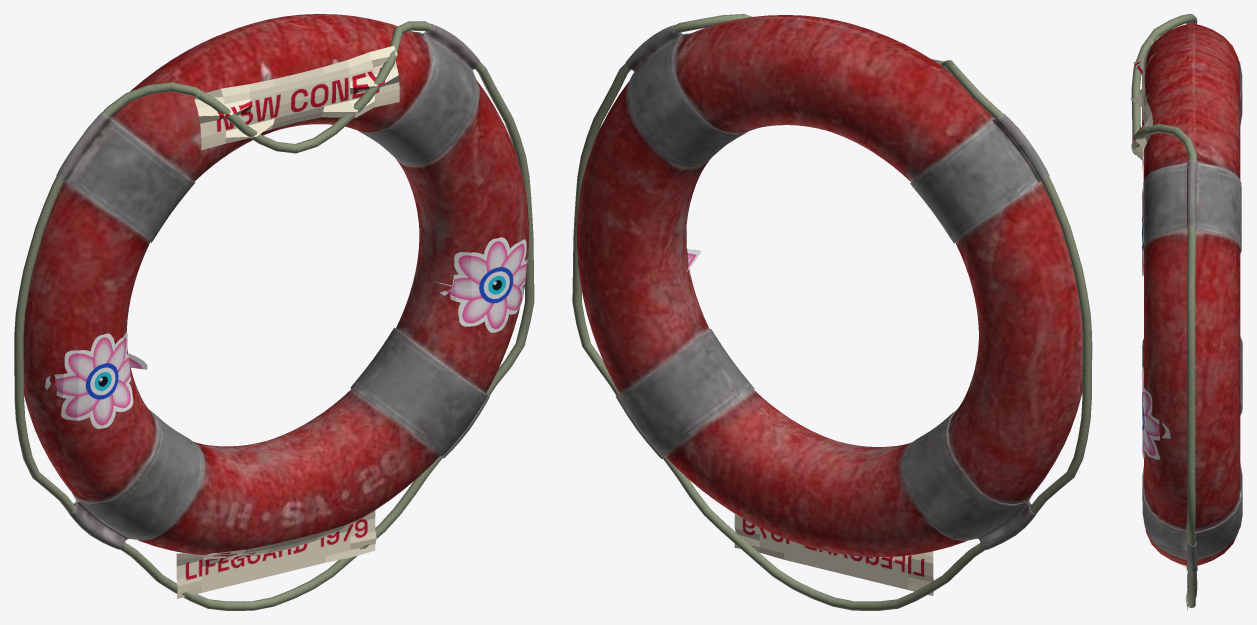
File: nyb_coney_buoy.glb
The picture shows the model from 3 angles, left to right: view 1: azimuth 30°, elevation 25°; view 2: azimuth 150°, elevation 25°; view 3: azimuth 270°, elevation 25°; orthographic projection. The views are drawn at different scales.
Visible parts, largest first — view 1: lifebuoy, stk_lbl_2bf65b340f.png, stk_lbl_b047360b76.png, stk_eyeflower_die.png, stk_eyeflower_die.png.001; view 2: lifebuoy, stk_lbl_b047360b76.png; view 3: lifebuoy, stk_eyeflower_die.png.001, stk_lbl_2bf65b340f.png.
Boxes of the visible parts, x1,y1,x2,y2 form: lifebuoy: (14,14,534,610); stk_lbl_2bf65b340f.png: (194,45,399,150); stk_lbl_b047360b76.png: (176,510,376,598); stk_eyeflower_die.png: (45,332,147,428); stk_eyeflower_die.png.001: (435,237,528,332); lifebuoy: (572,14,1092,610); stk_lbl_b047360b76.png: (734,514,933,595); lifebuoy: (1131,14,1242,607); stk_eyeflower_die.png.001: (1142,367,1170,459); stk_lbl_2bf65b340f.png: (1130,39,1153,170).
Size of the model in its own units: 0.7831 by 0.8412 by 0.1571.
Materials: 5 (5 with a texture image).
